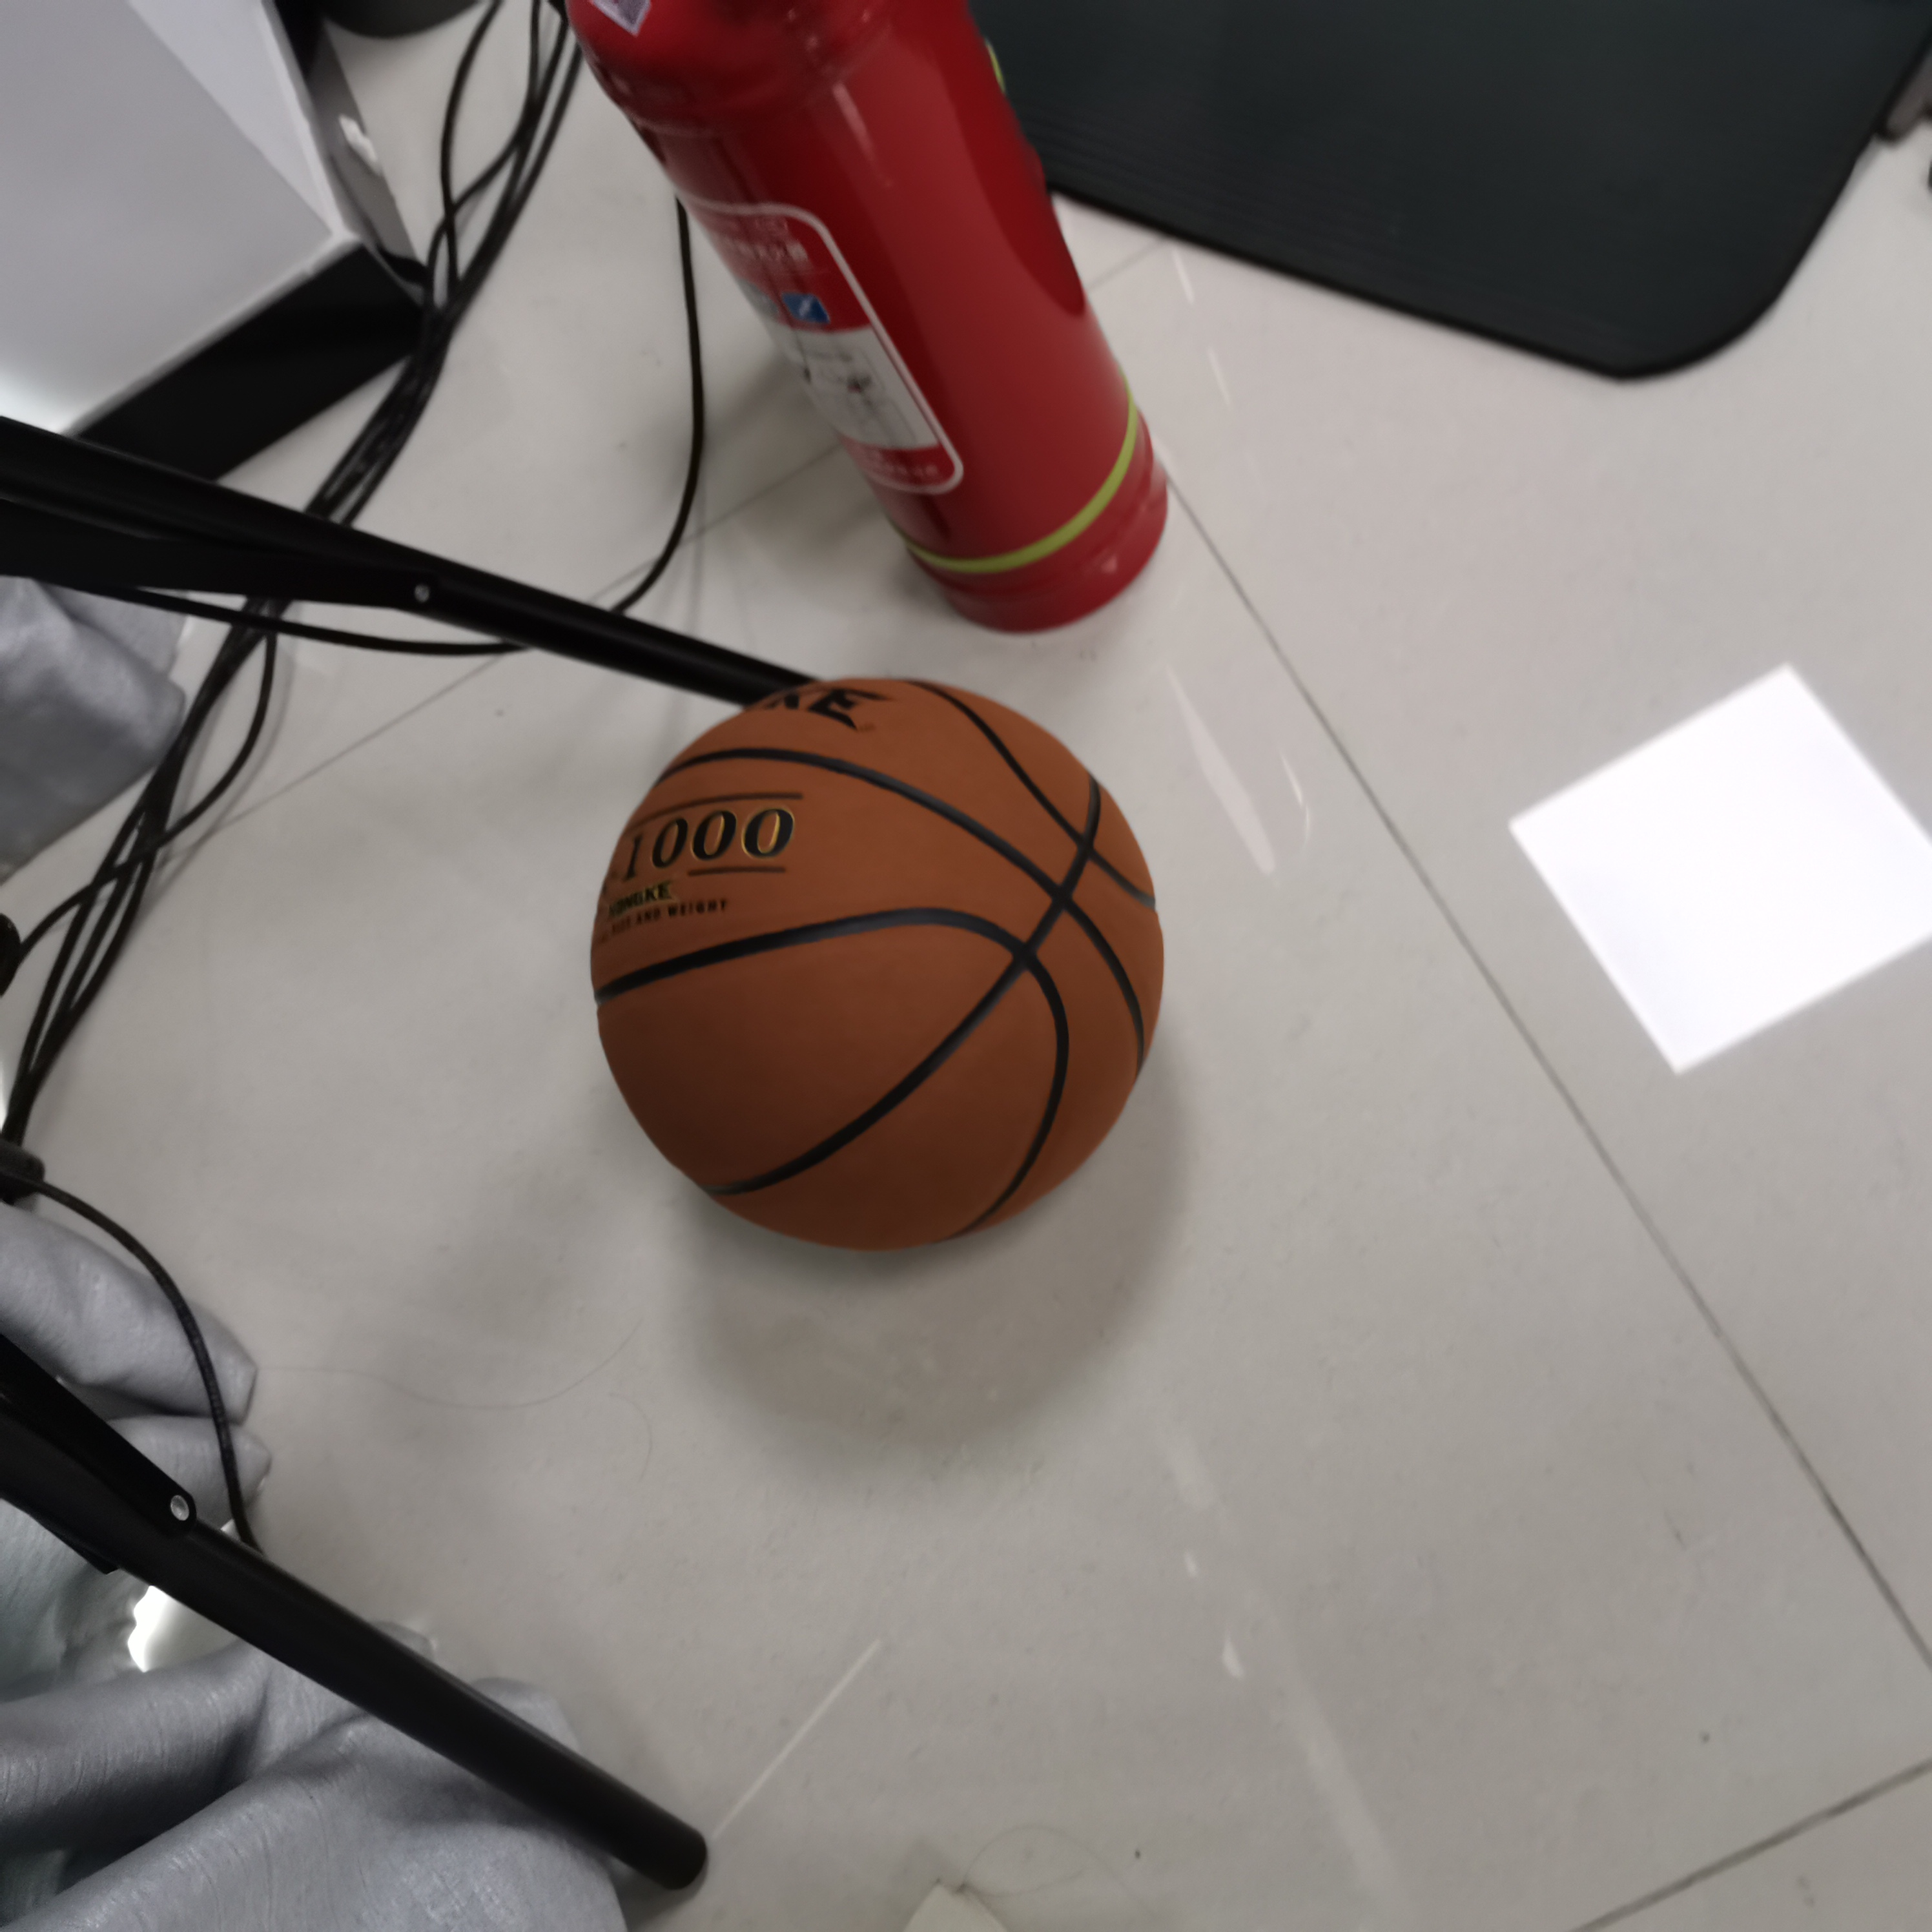basketball: (589, 676, 1169, 1249)
